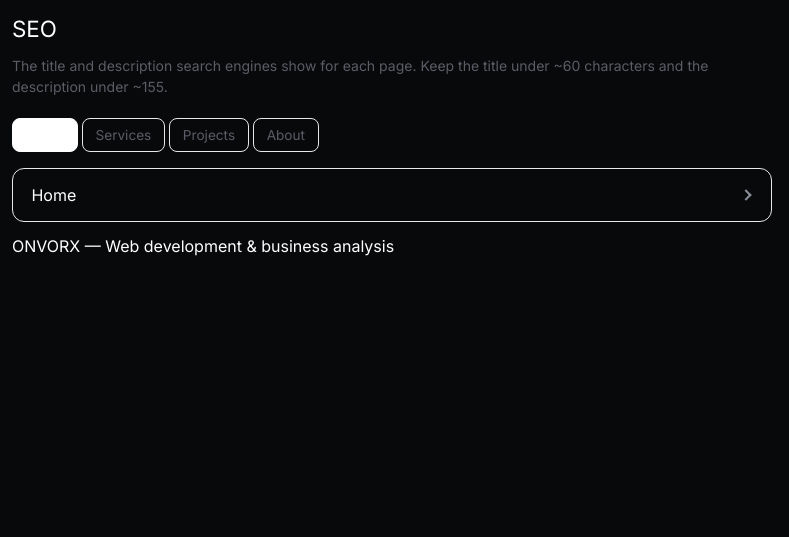
Test: SeoPage › groups the 8 entries in tabs; Home is the default
Expected: the heading "Home" is shown, x1=31 y1=183 x2=76 y2=208
Click the tab "Services": (123, 135) x1=82 y1=118 x2=165 y2=152
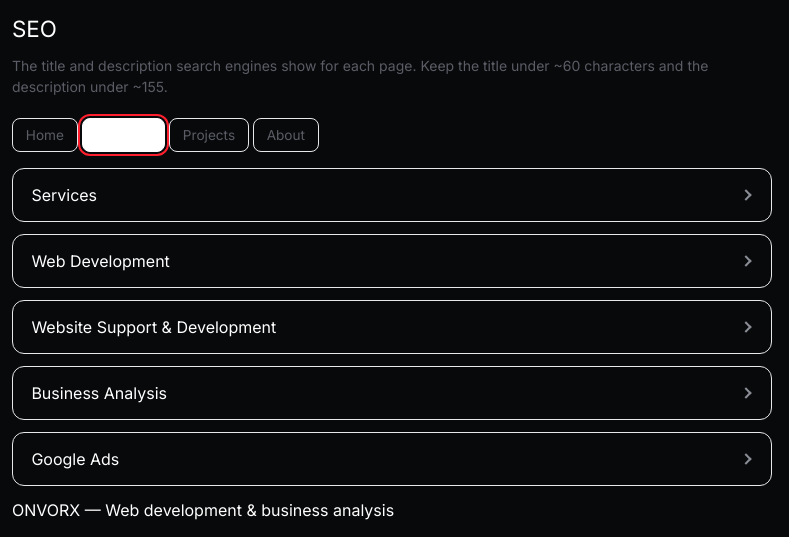
Click the tab "Projects": (209, 135) x1=169 y1=118 x2=249 y2=152
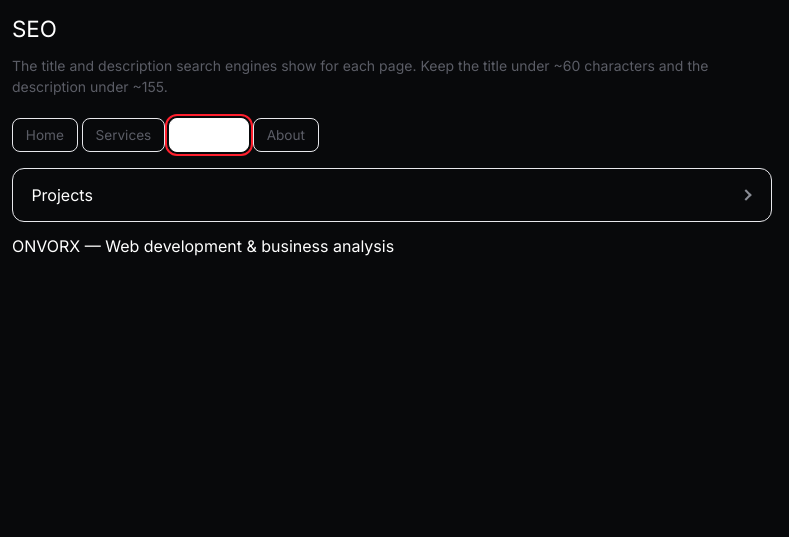
Now the heading "Projects" is shown, box x1=31 y1=183 x2=93 y2=208
Click the tab "About": (286, 135) x1=253 y1=118 x2=319 y2=152
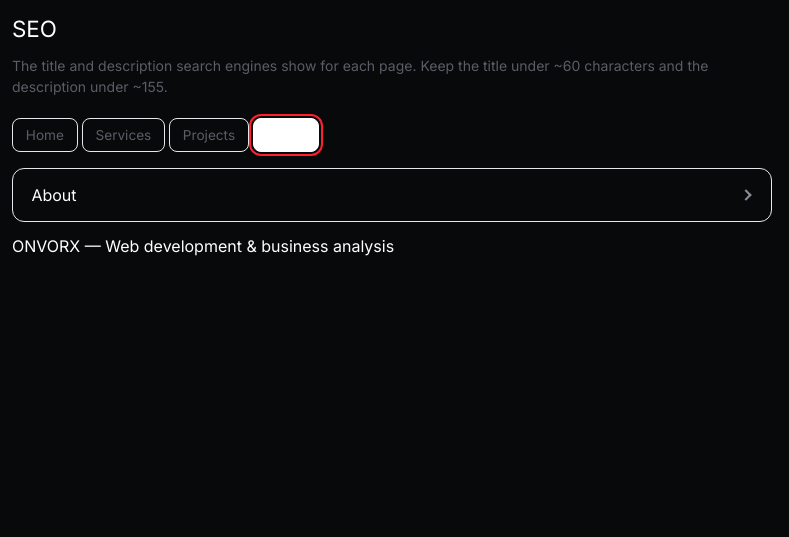
Now the heading "About" is shown, box x1=31 y1=183 x2=76 y2=208
